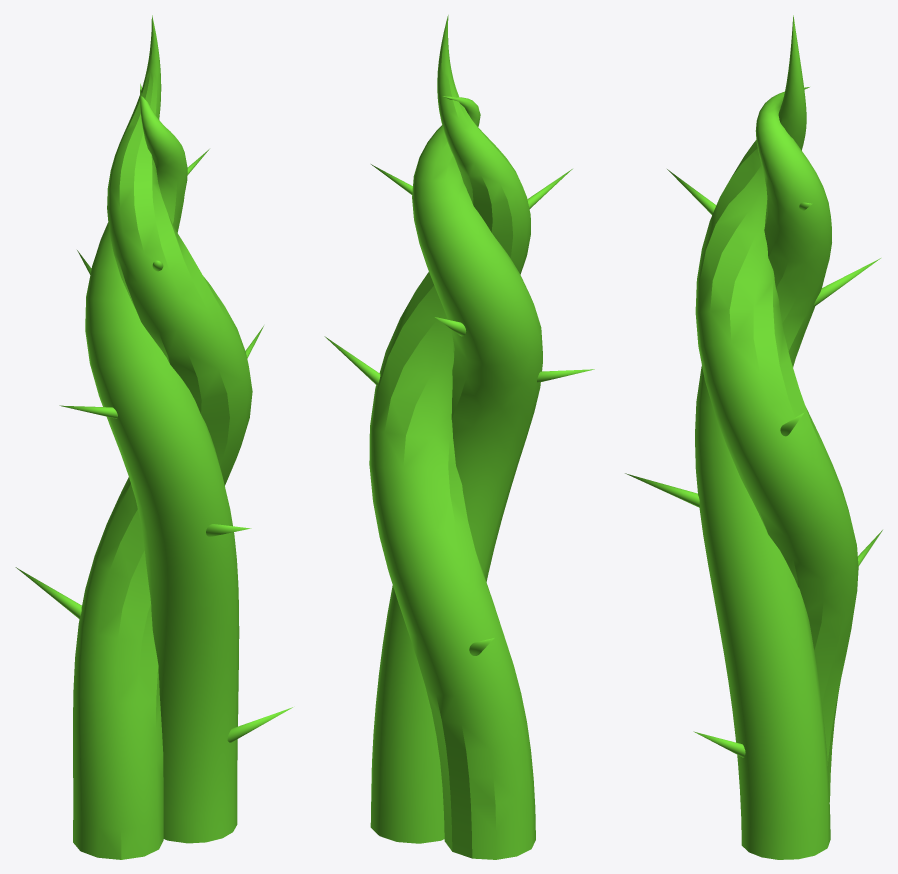
The model's file is rattan.fbx.
3 views of the same model, side by side, from view 1: azimuth 30°, elevation 25°; view 2: azimuth 150°, elevation 25°; view 3: azimuth 270°, elevation 25° (orthographic).
Visible parts, largest first — view 1: Retopo_Cone.001; view 2: Retopo_Cone.001; view 3: Retopo_Cone.001.
Boxes of the visible parts, x1,y1,x2,y2 form: Retopo_Cone.001: (15,15,292,859); Retopo_Cone.001: (324,15,594,859); Retopo_Cone.001: (625,15,882,859).
Bounding box in the file's own units: 128 × 421 × 122.
